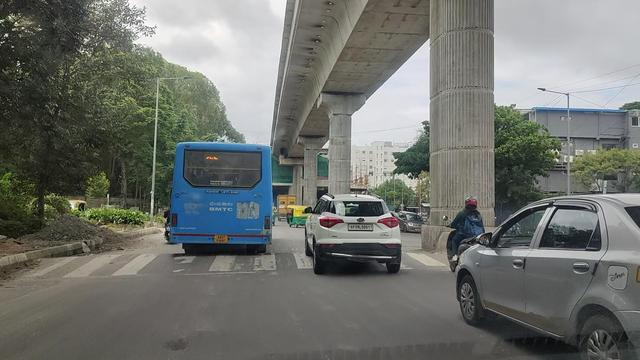LMV: (169, 140, 273, 253), (304, 193, 401, 275)
SpeedBump: (31, 248, 306, 282)
